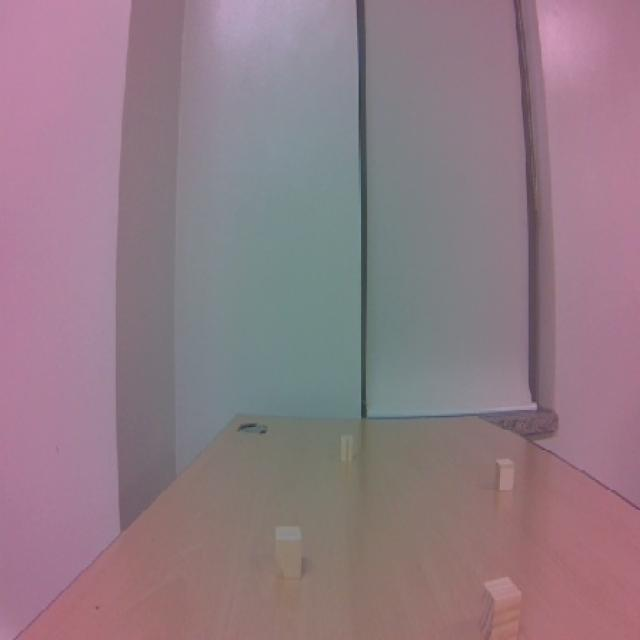obstacle: (268, 516, 308, 585), (490, 450, 520, 500)
